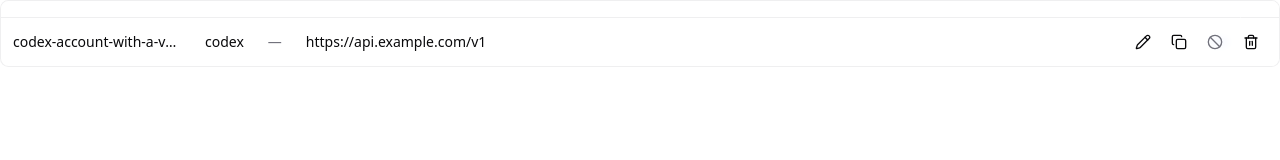
Scenario: upstreams/table › shows tooltip for truncated id cells on hover
Hover over the text "codex-account-with-a-very-long-upstream-id-for-tooltip" at (97, 42), box [13,32,181,52]
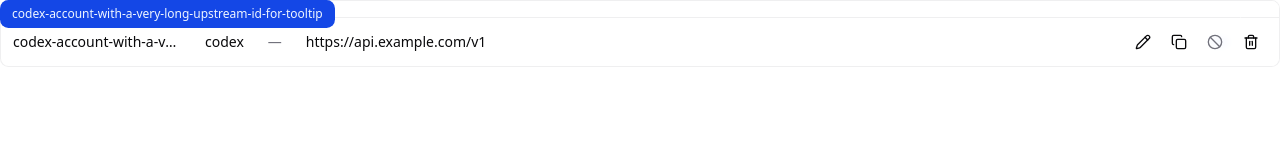
Expected: the tooltip reads "codex-account-with-a-very-long-upstream-id-for-tooltip", [12,5,323,22]
